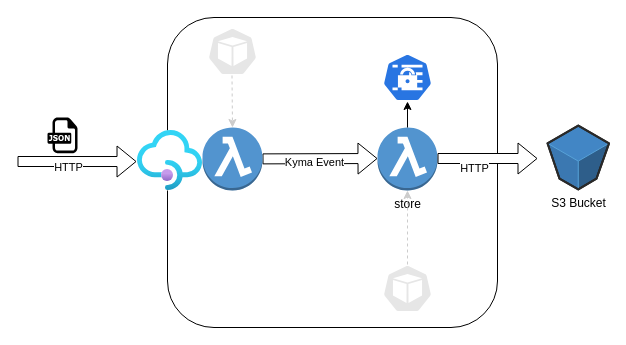
Image size: 626x345. Some labels were removed from this diagram. The shapes that lost their labels are listed below. From the top down, each one's box as (x1, y1, x2, y2) in pixels, then its label:
(382, 52, 432, 102): S3 credentials
(202, 126, 262, 190): sanitise
